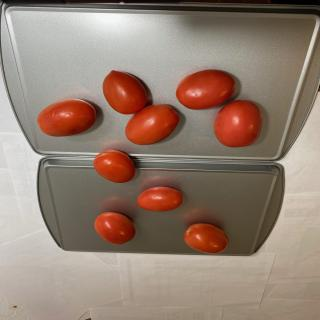Tomato: (176, 69, 236, 110), (214, 100, 262, 148), (37, 98, 96, 137), (125, 104, 179, 146), (102, 70, 148, 114), (93, 149, 136, 183), (183, 223, 229, 254), (94, 212, 136, 245), (136, 186, 183, 212)
